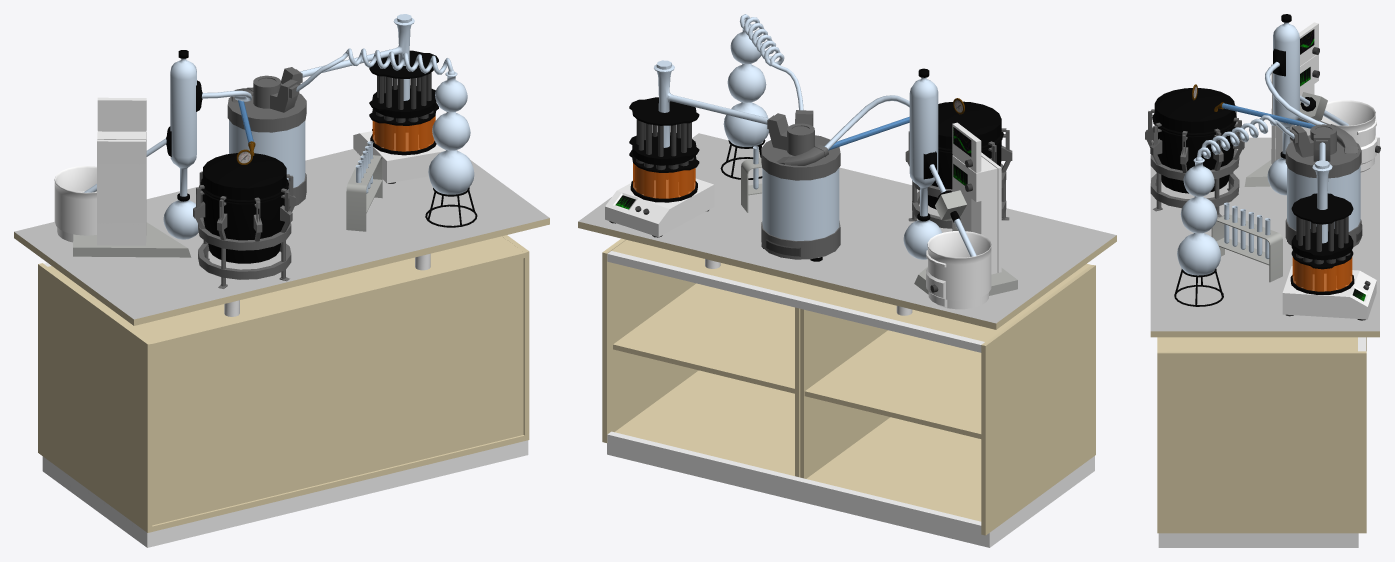
The model's file is scientific_chemical_equipment.fbx.
3 renders of one model, left to right at view 1: azimuth 30°, elevation 25°; view 2: azimuth 150°, elevation 25°; view 3: azimuth 270°, elevation 25°, orthographic. The views are drawn at different scales.
Visible parts, largest first — view 1: Bench, Measure_Instrument, Stewpan, Collector_TestTube, Main_Instrument, glass_part, Kipps_Apparatus, Support_test_tube, Pipe_Kipps, Pipe_Collector; view 2: Bench, Main_Instrument, Measure_Instrument, Collector_TestTube, glass_part, Stewpan, Kipps_Apparatus, Pipe_Collector, Pipe_Kipps; view 3: Bench, Stewpan, Collector_TestTube, Main_Instrument, Measure_Instrument, Kipps_Apparatus, glass_part, Support_test_tube, Pipe_Kipps, Pipe_Collector, Pipe_Measure, Pipe_Stewpan.
Boxes of the visible parts, x1,y1,x2,y2 form: Bench: (14, 149, 549, 547); Measure_Instrument: (54, 97, 191, 257); Stewpan: (193, 141, 296, 288); Collector_TestTube: (353, 50, 445, 183); Main_Instrument: (227, 67, 306, 205); glass_part: (83, 50, 202, 239); Kipps_Apparatus: (425, 70, 477, 227); Support_test_tube: (346, 154, 382, 231); Pipe_Kipps: (296, 48, 453, 91); Pipe_Collector: (300, 14, 414, 100); Bench: (578, 133, 1116, 547); Main_Instrument: (761, 110, 840, 261); Measure_Instrument: (914, 122, 1017, 309); Collector_TestTube: (605, 97, 714, 237); glass_part: (903, 68, 976, 259); Stewpan: (905, 98, 1012, 228); Kipps_Apparatus: (720, 22, 768, 179); Pipe_Collector: (654, 60, 768, 147); Pipe_Kipps: (739, 14, 803, 110); Bench: (1150, 137, 1379, 547); Stewpan: (1145, 84, 1244, 217); Collector_TestTube: (1282, 193, 1376, 320); Main_Instrument: (1285, 124, 1362, 246); Measure_Instrument: (1244, 22, 1380, 186); Kipps_Apparatus: (1174, 157, 1223, 306); glass_part: (1267, 14, 1348, 195); Support_test_tube: (1211, 214, 1282, 282); Pipe_Kipps: (1197, 115, 1294, 158); Pipe_Collector: (1312, 142, 1332, 243); Pipe_Measure: (1265, 62, 1326, 125); Pipe_Stewpan: (1222, 103, 1314, 128).
Size of the model in its own units: 240 by 233 by 123.
